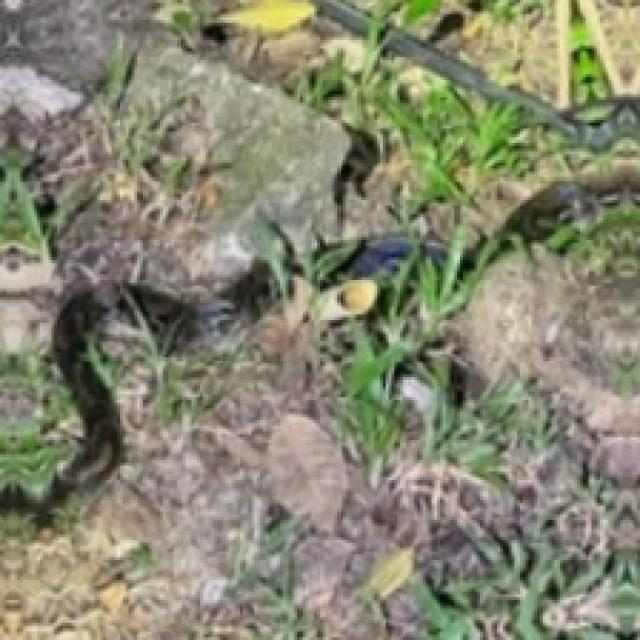reticulated python: (0, 282, 124, 508), (496, 178, 640, 242), (128, 285, 235, 354), (222, 256, 274, 321), (351, 241, 411, 276)
